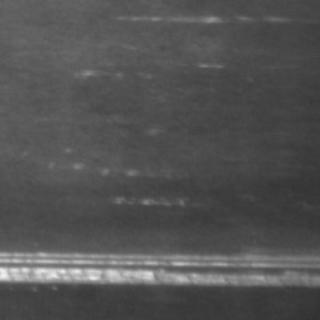scratches: (0, 240, 316, 286)
